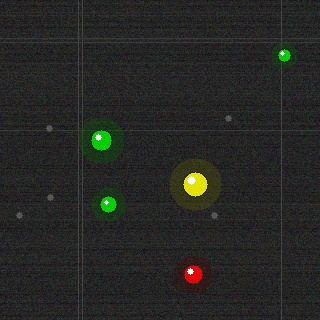green_normal: (89, 128, 113, 152), (98, 194, 118, 214), (276, 47, 292, 63)
red_fault: (182, 263, 204, 285)
yellow_warning: (181, 170, 209, 198)
